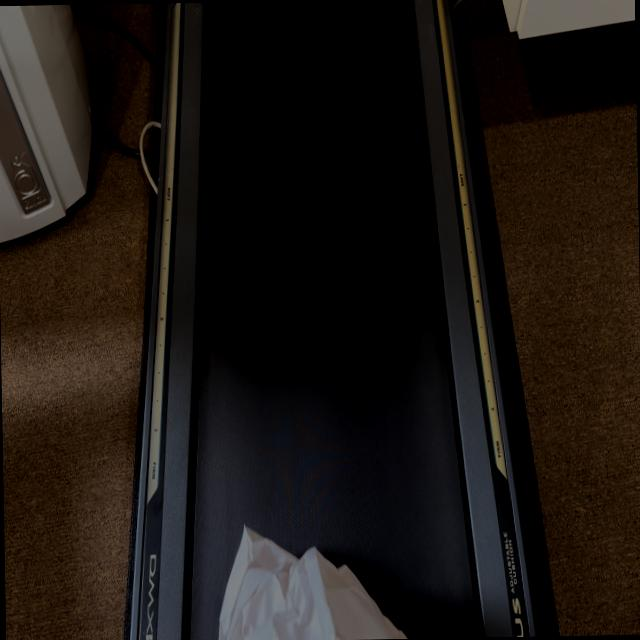Recycle: (214, 516, 409, 640)
